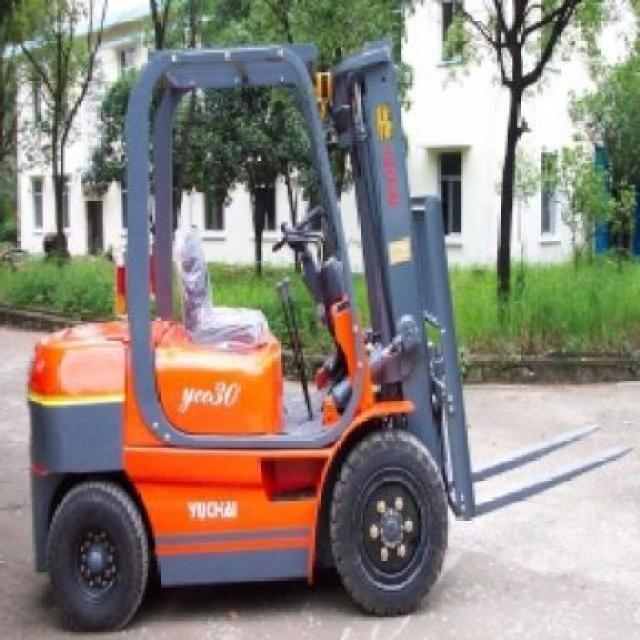forklift: (28, 43, 478, 631)
